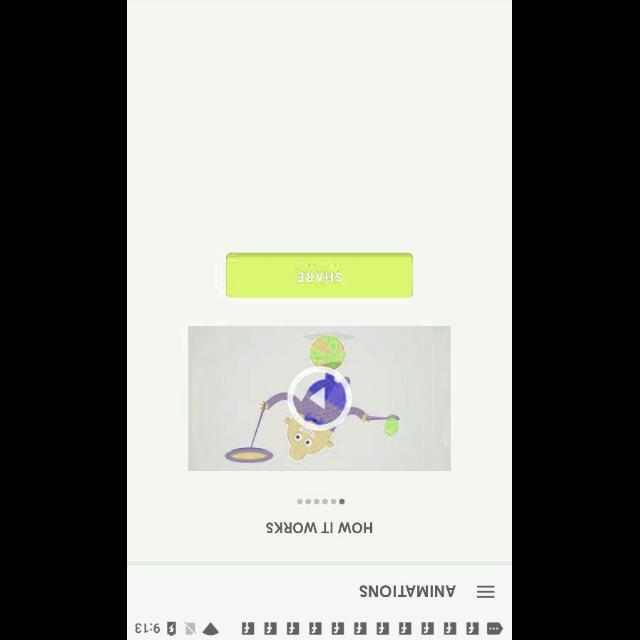icon: (476, 584, 496, 598)
image: (188, 326, 452, 470)
pageindicator: (296, 498, 346, 504)
text: (266, 521, 374, 533), (359, 584, 456, 596)
textbutton: (226, 252, 414, 298)
toolbar: (128, 562, 512, 620)
uppertaskbar: (128, 620, 512, 640)
